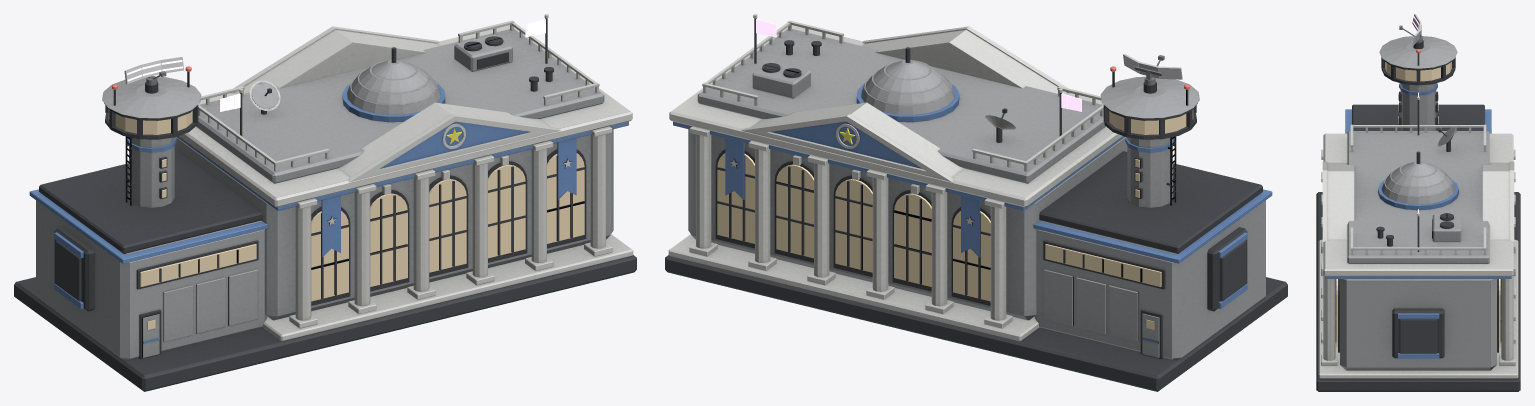
File: SM_Administration.fbx
The picture shows the model from 3 angles, left to right: view 1: azimuth 30°, elevation 25°; view 2: azimuth 150°, elevation 25°; view 3: azimuth 270°, elevation 25°; orthographic projection. The views are drawn at different scales.
Visible parts, largest first — view 1: SMN_Administration, AdministrationWindows, SpinRadar_Administration; view 2: SMN_Administration, AdministrationWindows, SpinRadar_Administration; view 3: SMN_Administration, AdministrationWindows, SpinRadar_Administration.
Part boxes in pixels (<box>): SMN_Administration: <box>14,14,636,391</box>; AdministrationWindows: <box>108,109,584,329</box>; SpinRadar_Administration: <box>124,57,183,85</box>; SMN_Administration: <box>665,14,1287,391</box>; AdministrationWindows: <box>717,109,1193,329</box>; SpinRadar_Administration: <box>1123,53,1182,85</box>; SMN_Administration: <box>1316,36,1520,391</box>; AdministrationWindows: <box>1336,62,1500,347</box>; SpinRadar_Administration: <box>1399,14,1422,45</box>.
Bounding box in the file's own units: 1.96 × 0.9635 × 0.86.
